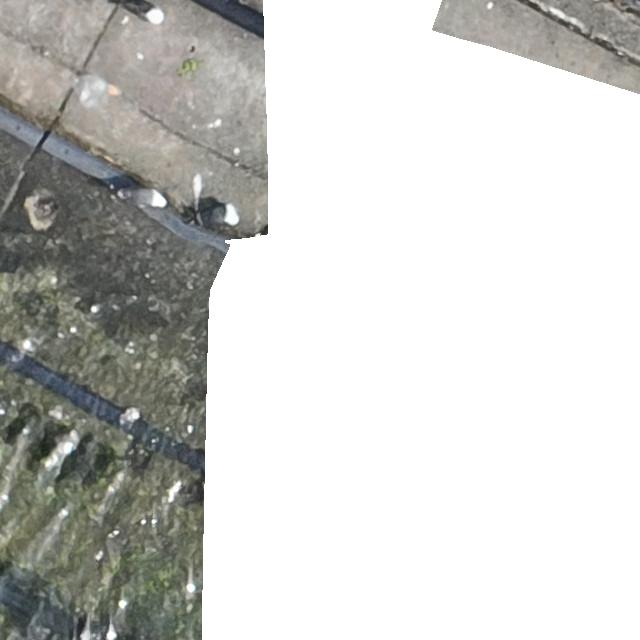umineko: (194, 204, 247, 228), (117, 185, 169, 209), (128, 2, 168, 26)
